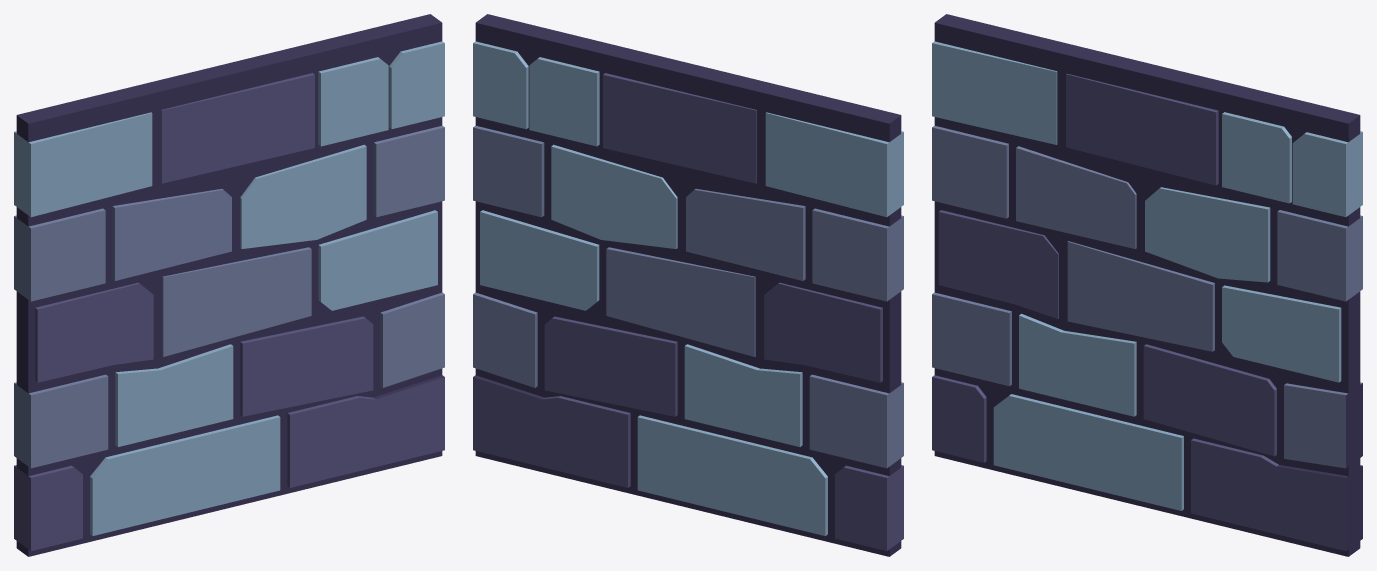
File: Modular Wall 08 MK2.fbx
3 views of the same model, side by side, from view 1: azimuth 30°, elevation 25°; view 2: azimuth 150°, elevation 25°; view 3: azimuth 330°, elevation 25° (orthographic).
Parts seen in each view (by area): view 1: Modular Wall 08 MK2; view 2: Modular Wall 08 MK2; view 3: Modular Wall 08 MK2.
Boxes of the visible parts, bbox=[...] form: Modular Wall 08 MK2: bbox=[14, 14, 444, 556]; Modular Wall 08 MK2: bbox=[473, 14, 903, 556]; Modular Wall 08 MK2: bbox=[932, 14, 1362, 556].
Bounding box in the file's own units: 400 × 400 × 28.36.
